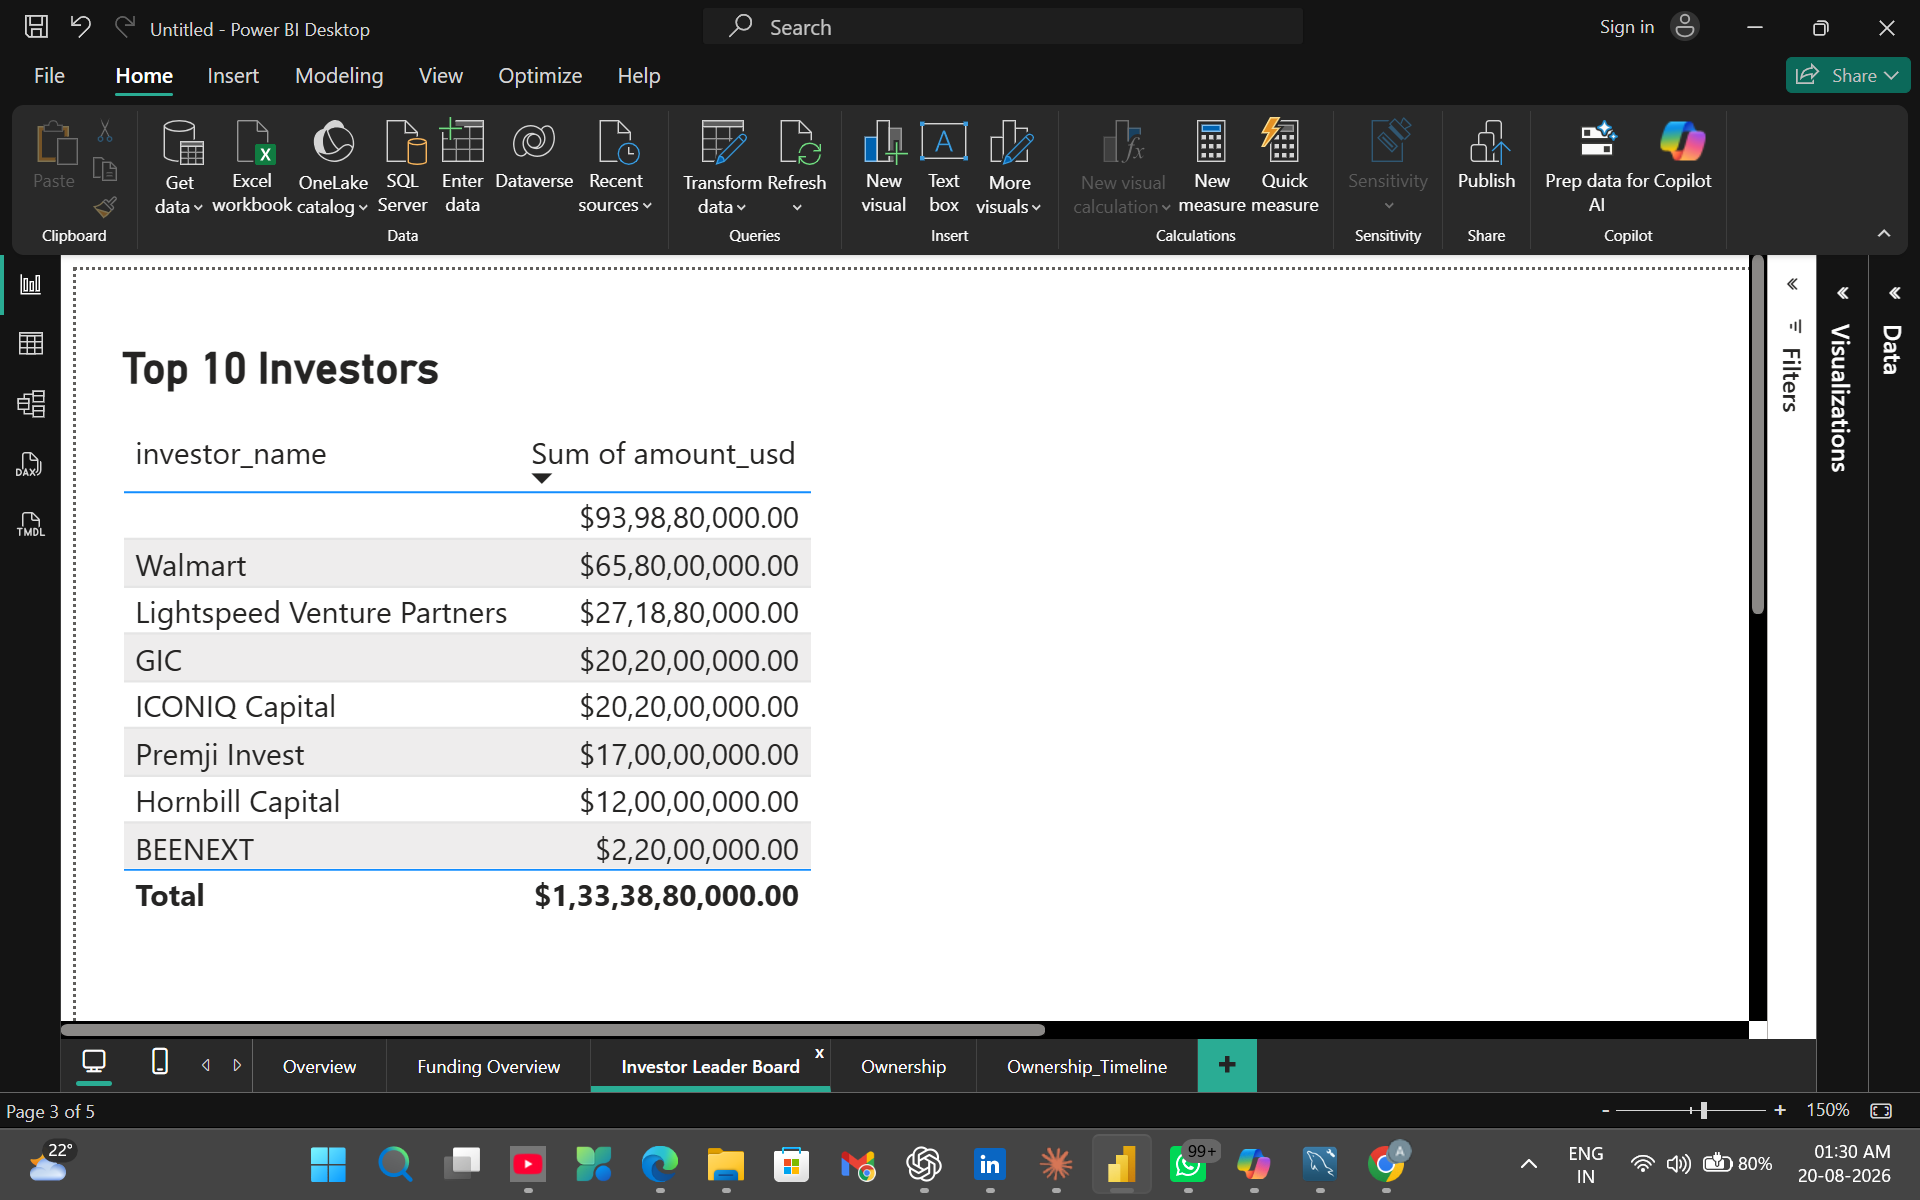

This screenshot's page, from the dashboard's own definition file:
{"tool":"powerbi","page":{"name":"Investor Leader Board","canvas":[1280,720],"ordinal":2},"visuals":[{"type":"tableEx","title":"Top 10 Investors","fields":{"Values":["private_markets_intel investors.investor_name","Sum(private_markets_intel funding_rounds.amount_usd)"]},"box":[15.1,32.1,345.8,287.2],"z":0}]}

Visuals, with their boxes on the page's 1280x720 design canvas (x1, y1, x2, y2). These are canvas units, not pixel positions in the 1920x1200 screenshot, which may show the page scaled, cropped or inside an application window:
"Top 10 Investors" tableEx: detection(15, 32, 361, 319)
